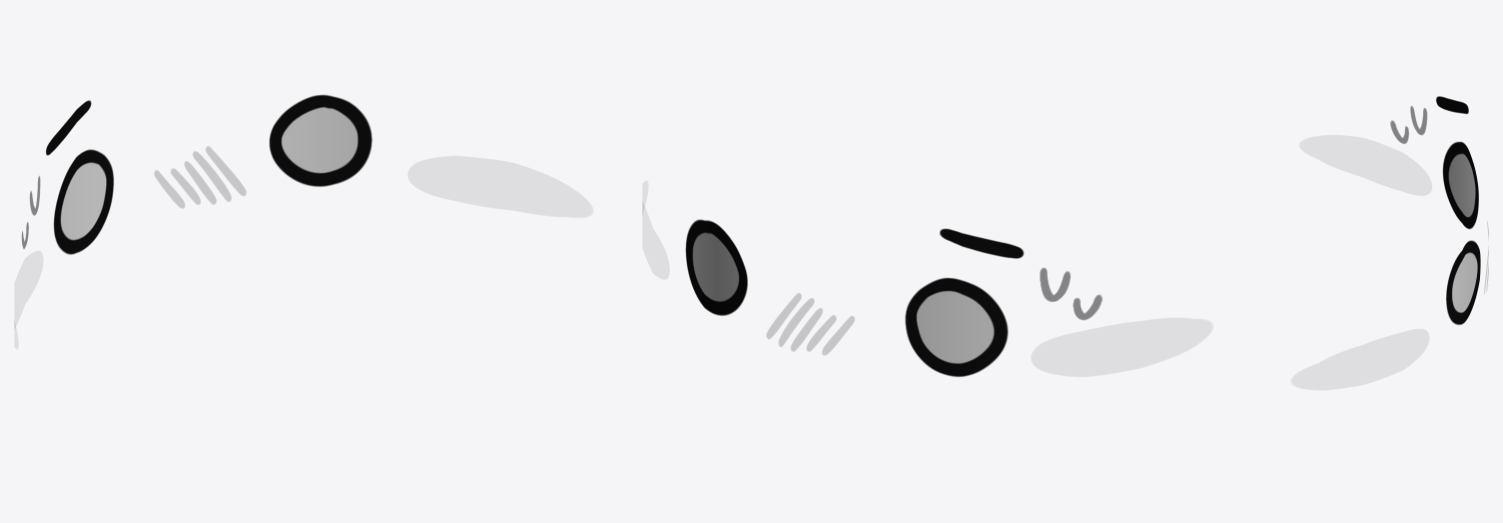
The model's file is 16-Nervous-Silly-Face-eyes.glb.
The picture shows the model from 3 angles, left to right: view 1: azimuth 30°, elevation 25°; view 2: azimuth 150°, elevation 25°; view 3: azimuth 270°, elevation 25°; orthographic projection. The views are drawn at different scales.
Visible parts, largest first — view 1: 16-Nervous-Silly-Face-eyes; view 2: 16-Nervous-Silly-Face-eyes; view 3: 16-Nervous-Silly-Face-eyes.
Boxes of the visible parts, <box> form: 16-Nervous-Silly-Face-eyes: <box>15,95,372,327</box>; 16-Nervous-Silly-Face-eyes: <box>643,203,1102,376</box>; 16-Nervous-Silly-Face-eyes: <box>1390,96,1488,324</box>.
Size of the model in its own units: 1.13 by 0.5657 by 0.431.
1 material, 1 textured.
